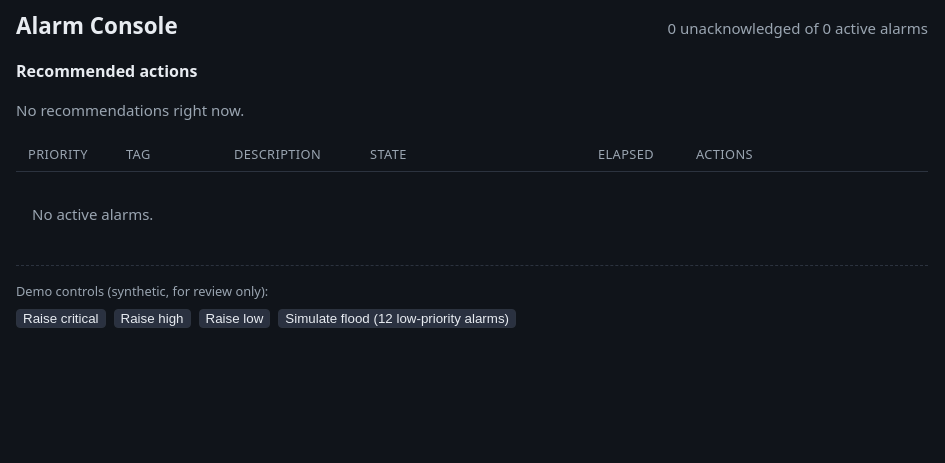
AlarmConsole › rejecting a recommendation records the decision without touching the alarm, and no longer prompts for it
Click the button "Raise low": click(234, 319) [198, 309, 270, 328]
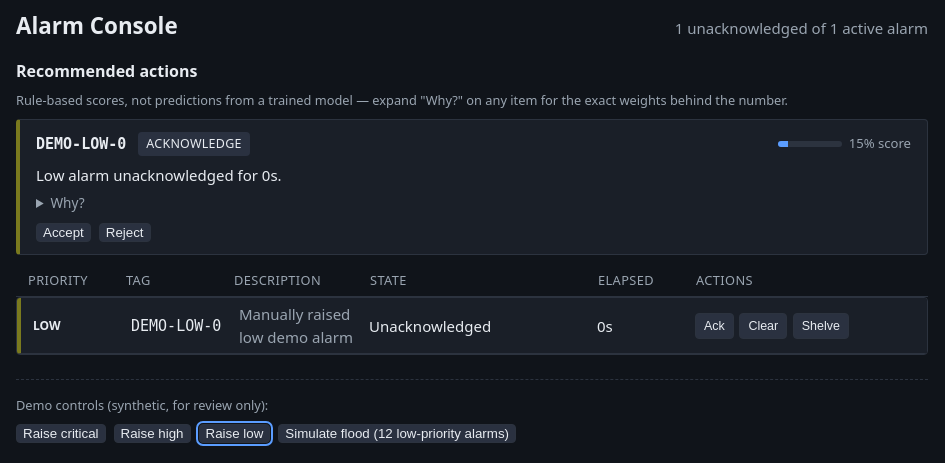
Click the button with aria-label "Reject recommendation for": click(125, 232) [99, 223, 151, 242]
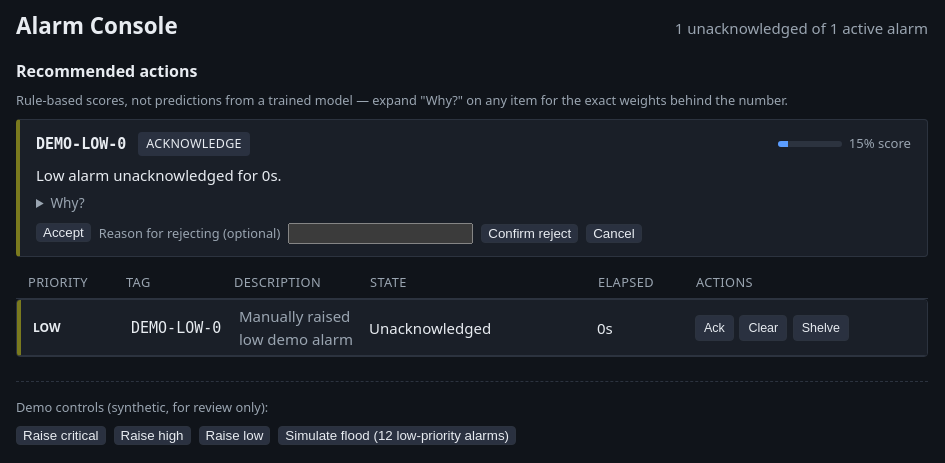
In the field labelled "Reason for rejecting (optional)": (381, 233) [288, 223, 473, 244], type "monitoring manually"
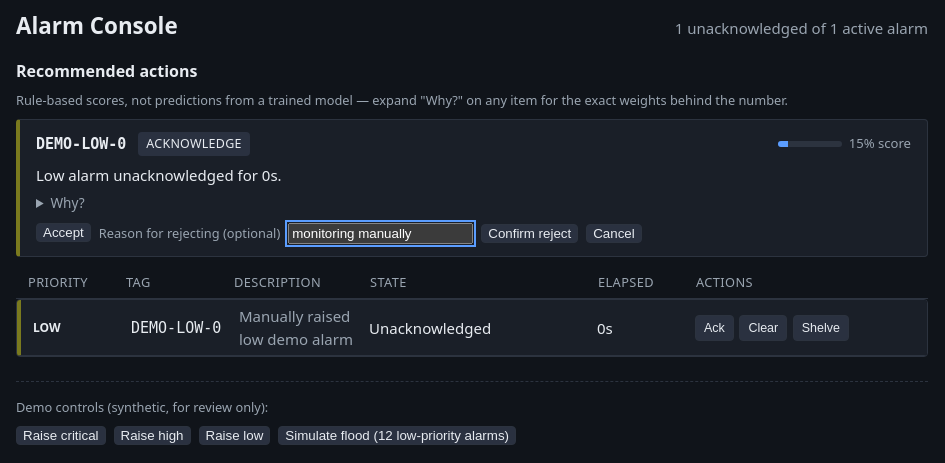
Click the button "Confirm reject": click(530, 233) [481, 224, 578, 243]
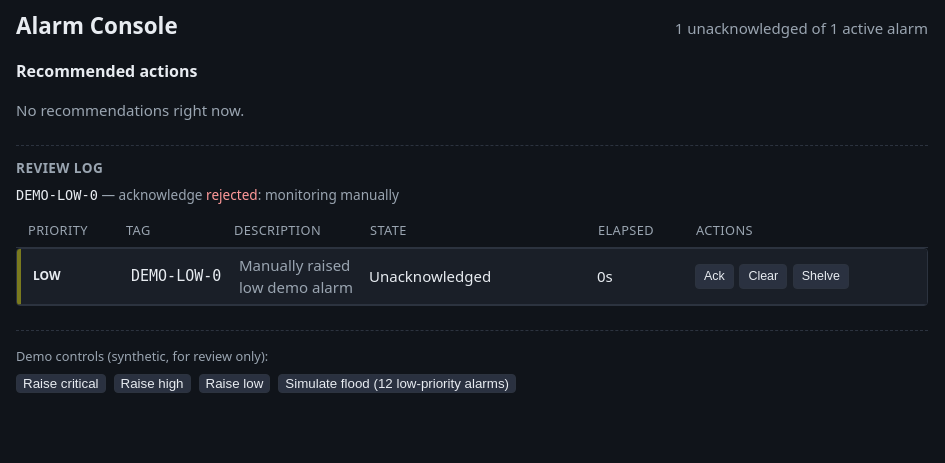
Expected: the text "Unacknowledged" is shown, [369, 266, 491, 286]
Expected: the text "No recommendations right now." is shown, [16, 100, 244, 120]
Expected: the list item "DEMO-LOW-0 — acknowledge rejected: monitoring manually" is shown, [16, 185, 399, 204]
